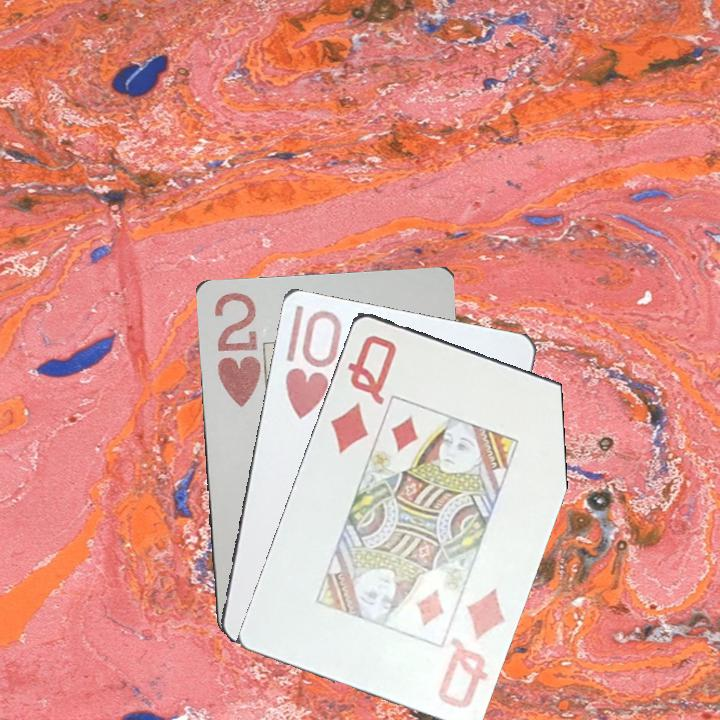2h: (210, 288, 263, 410)
Qd: (433, 584, 508, 711), (327, 331, 400, 456)
Th: (281, 305, 343, 422)
